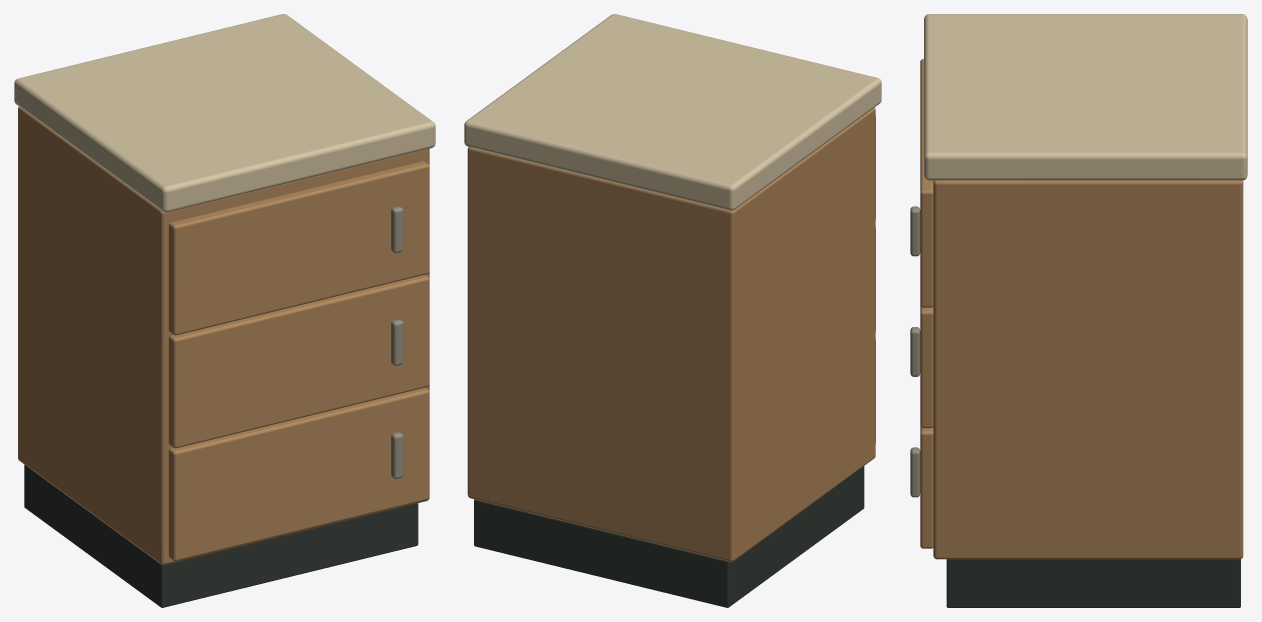
File: kitchenBaseCabinet.glb
The picture shows the model from 3 angles, left to right: view 1: azimuth 30°, elevation 25°; view 2: azimuth 150°, elevation 25°; view 3: azimuth 270°, elevation 25°; orthographic projection. The views are drawn at different scales.
Parts seen in each view (by area): view 1: kitchenBaseCabinet-part-2, kitchenBaseCabinet-part-3, kitchenBaseCabinet-part-8, kitchenBaseCabinet-part-4, kitchenBaseCabinet-part-6, kitchenBaseCabinet-part-1, kitchenBaseCabinet-part-5, kitchenBaseCabinet-part-7, kitchenBaseCabinet-part-9; view 2: kitchenBaseCabinet-part-2, kitchenBaseCabinet-part-3, kitchenBaseCabinet-part-1; view 3: kitchenBaseCabinet-part-2, kitchenBaseCabinet-part-3, kitchenBaseCabinet-part-1, kitchenBaseCabinet-part-8, kitchenBaseCabinet-part-6, kitchenBaseCabinet-part-4, kitchenBaseCabinet-part-5, kitchenBaseCabinet-part-9, kitchenBaseCabinet-part-7.
Boxes of the visible parts, x1,y1,x2,y2 form: kitchenBaseCabinet-part-2: [18, 107, 429, 565]; kitchenBaseCabinet-part-3: [14, 14, 435, 212]; kitchenBaseCabinet-part-8: [168, 161, 429, 335]; kitchenBaseCabinet-part-4: [168, 387, 429, 561]; kitchenBaseCabinet-part-6: [168, 275, 429, 448]; kitchenBaseCabinet-part-1: [24, 465, 418, 607]; kitchenBaseCabinet-part-5: [391, 432, 403, 478]; kitchenBaseCabinet-part-7: [391, 319, 403, 365]; kitchenBaseCabinet-part-9: [391, 206, 403, 252]; kitchenBaseCabinet-part-2: [467, 107, 875, 561]; kitchenBaseCabinet-part-3: [464, 14, 881, 210]; kitchenBaseCabinet-part-1: [474, 466, 864, 607]; kitchenBaseCabinet-part-2: [933, 180, 1243, 559]; kitchenBaseCabinet-part-3: [924, 14, 1247, 180]; kitchenBaseCabinet-part-1: [946, 559, 1240, 607]; kitchenBaseCabinet-part-8: [920, 59, 933, 307]; kitchenBaseCabinet-part-6: [920, 306, 933, 428]; kitchenBaseCabinet-part-4: [920, 426, 933, 548]; kitchenBaseCabinet-part-5: [910, 447, 920, 497]; kitchenBaseCabinet-part-9: [910, 206, 920, 256]; kitchenBaseCabinet-part-7: [910, 327, 920, 376].
Size of the model in its own units: 0.6 by 0.9 by 0.6.
